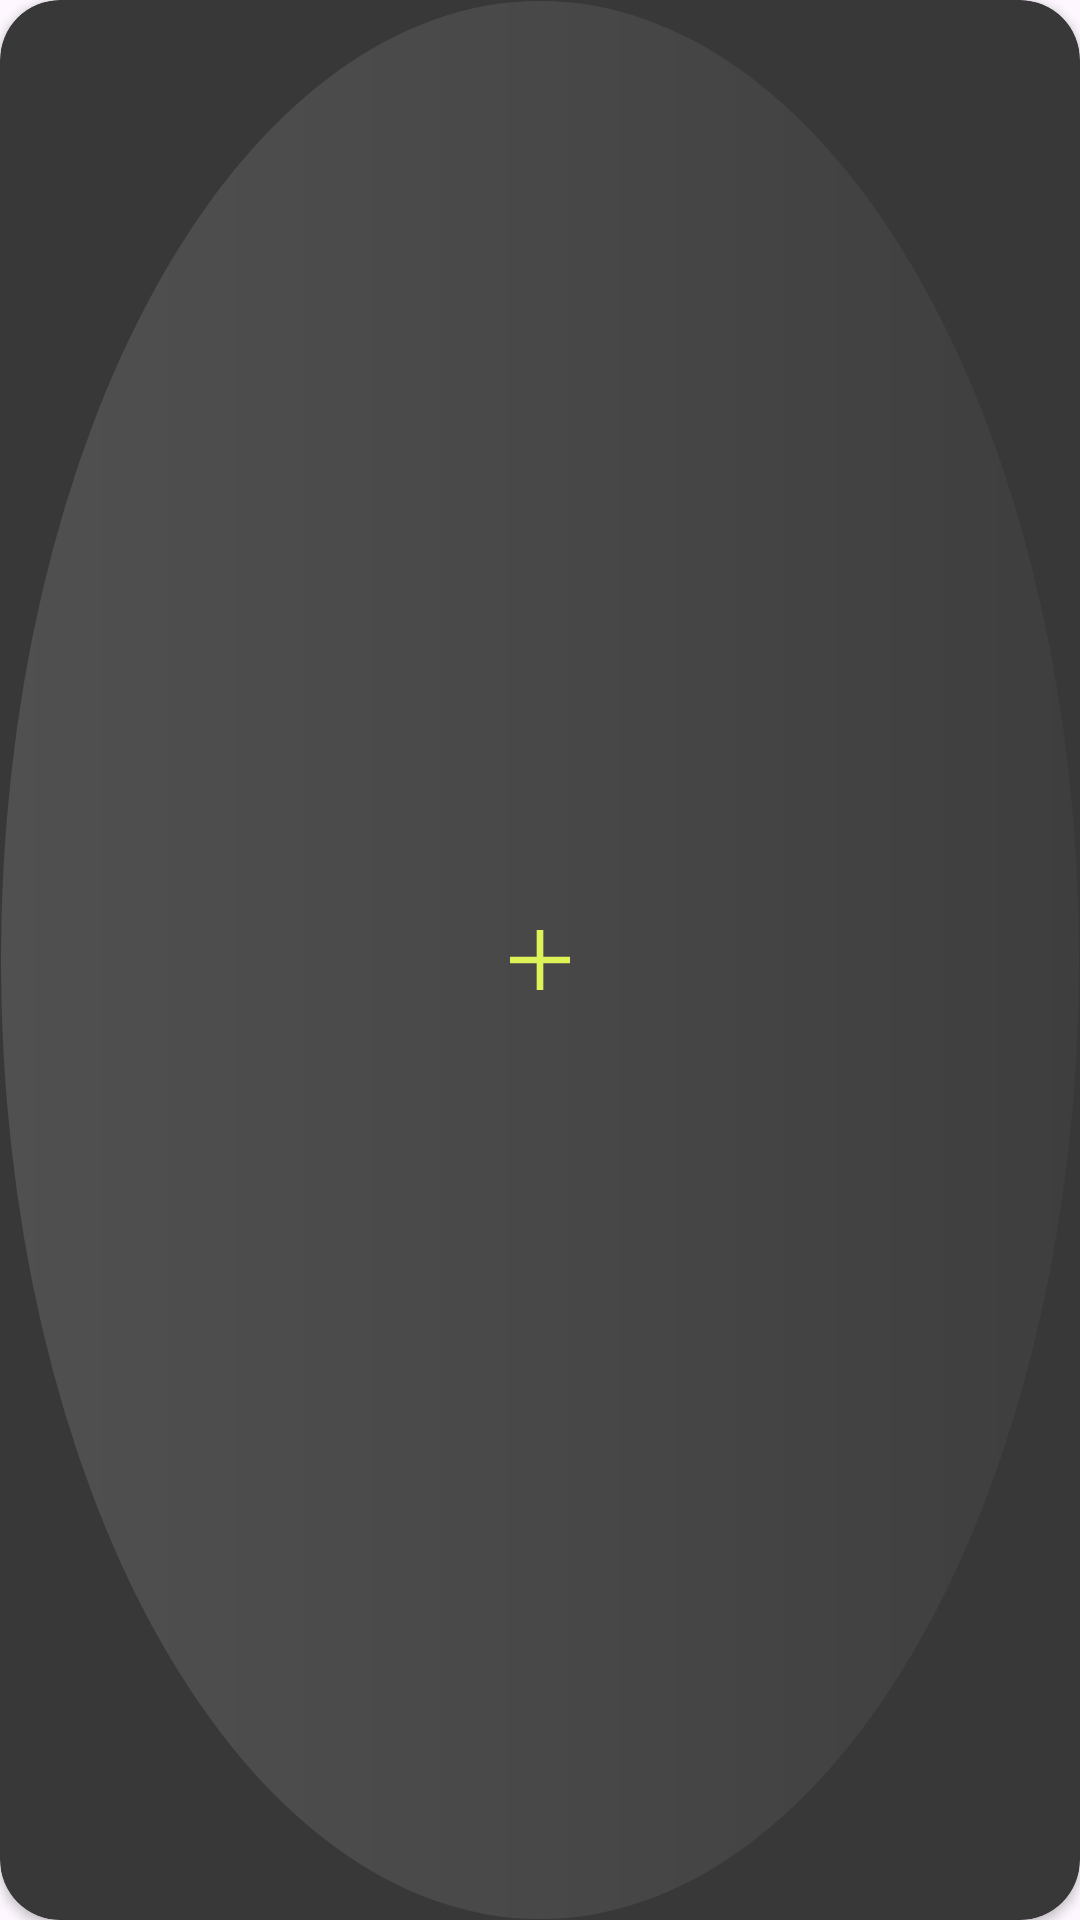

Named icons in this screenshot (1080*1920) and their bounding boxes, (x1, y1, x2, y2):
plus sign: (510, 930, 570, 990)
